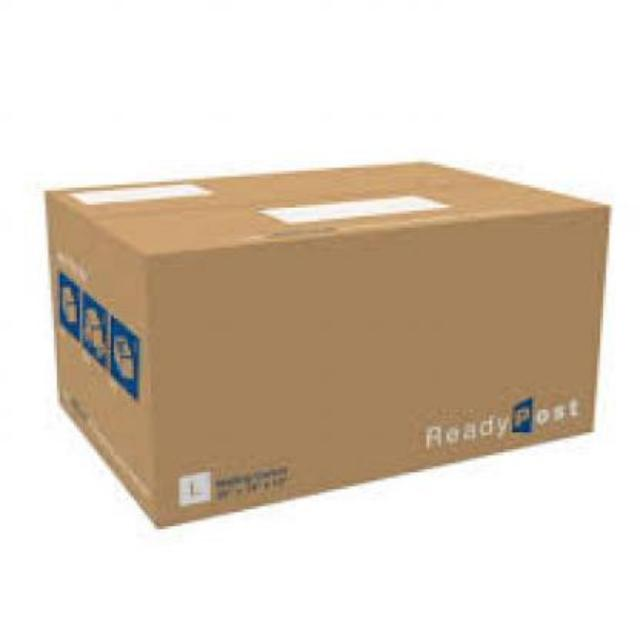cardboard_box: (16, 150, 608, 522)
